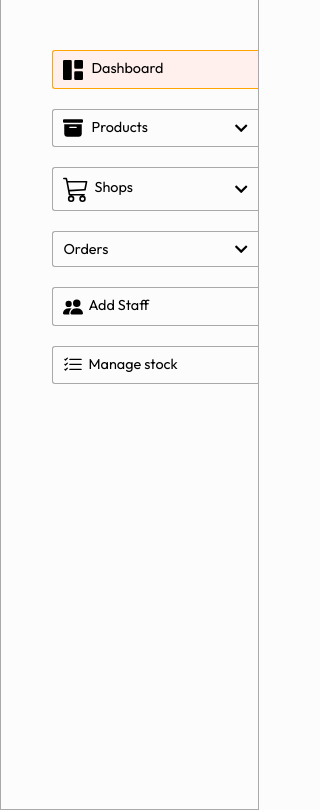
Test: Sidebar Component › toggles orders dropdown for admin
Click the text "Orders" at (86, 249), box [63,240,108,258]
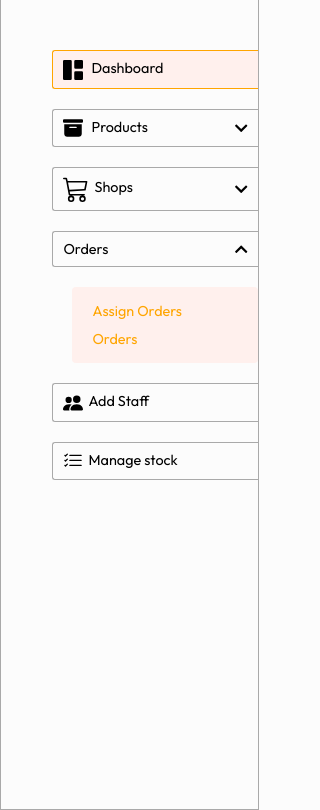
Result: the text "Assign Orders" is shown at [92,302,182,320]
